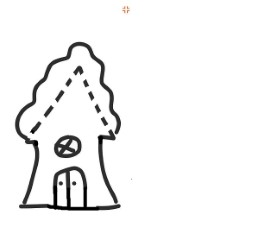closed_window: (50, 131, 82, 162)
door: (49, 164, 93, 215)
roof: (13, 40, 128, 143)
wall: (12, 135, 124, 212)
